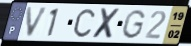1: (46, 7, 62, 37)
2: (143, 9, 167, 40)
C: (72, 7, 96, 39)
G: (120, 8, 147, 40)
V: (25, 6, 51, 39)
X: (90, 7, 123, 41)
